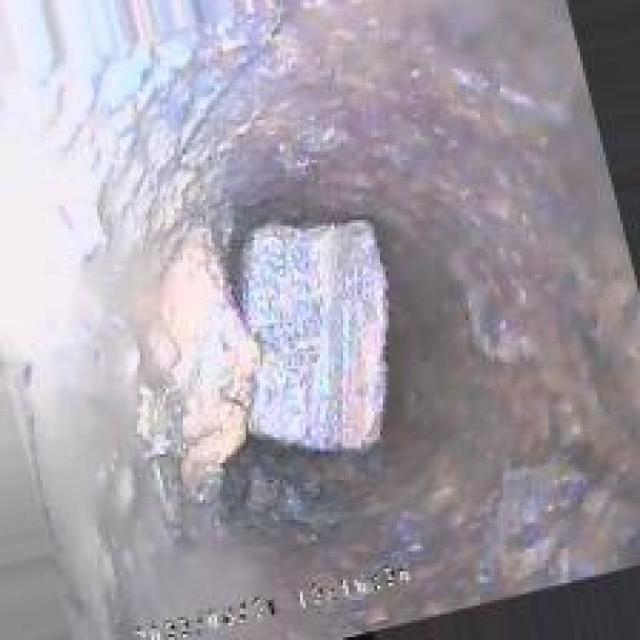stone: (237, 217, 397, 463)
